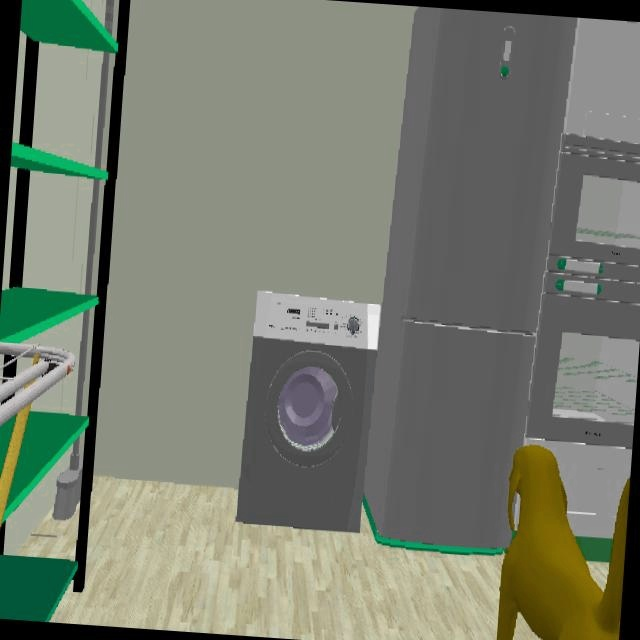cabinet: (564, 18, 640, 143)
fridge: (364, 6, 575, 547)
microwave: (549, 133, 640, 274)
oven: (526, 273, 640, 446)
shelf: (0, 0, 129, 618)
